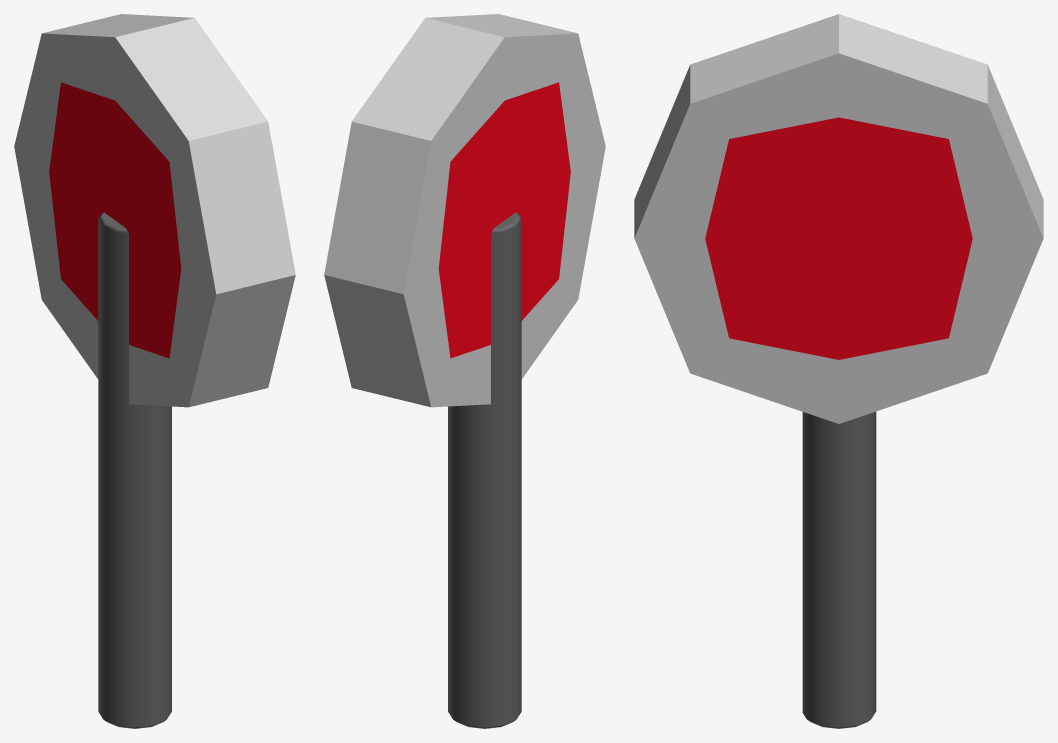
Rendered from StopSign.fbx.
3 views of the same model, side by side, from view 1: azimuth 30°, elevation 25°; view 2: azimuth 150°, elevation 25°; view 3: azimuth 270°, elevation 25° (orthographic).
Parts seen in each view (by area): view 1: StopSign, StopPole; view 2: StopSign, StopPole; view 3: StopSign, StopPole.
Boxes of the visible parts, <box> form: StopSign: <box>14,14,295,407</box>; StopPole: <box>98,212,171,728</box>; StopSign: <box>324,14,605,407</box>; StopPole: <box>448,212,521,728</box>; StopSign: <box>634,14,1043,423</box>; StopPole: <box>802,411,876,728</box>.
Size of the model in its own units: 0.2875 by 2.05 by 1.1.
